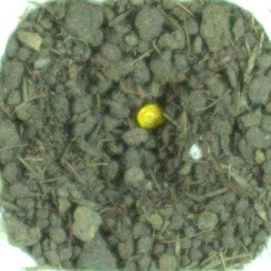pepper seed: (51, 37, 219, 167)
